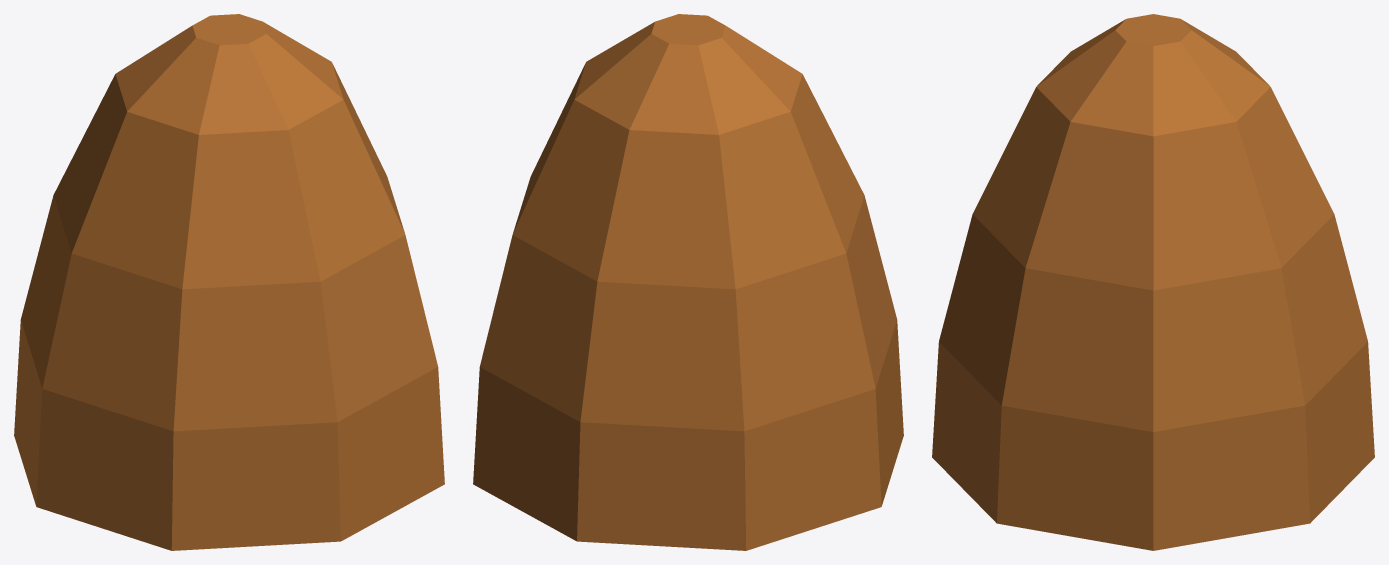
The model's file is 45acp_projectile.glb.
3 renders of one model, left to right at view 1: azimuth 30°, elevation 25°; view 2: azimuth 150°, elevation 25°; view 3: azimuth 270°, elevation 25°, orthographic.
Visible parts, largest first — view 1: 919; view 2: 919; view 3: 919.
Boxes of the visible parts, left/top/right/bottom form: 919: left=14, top=14, right=444, bottom=550; 919: left=473, top=14, right=903, bottom=550; 919: left=932, top=14, right=1374, bottom=550.
Bounding box in the file's own units: 0.09 × 0.0958 × 0.09.
